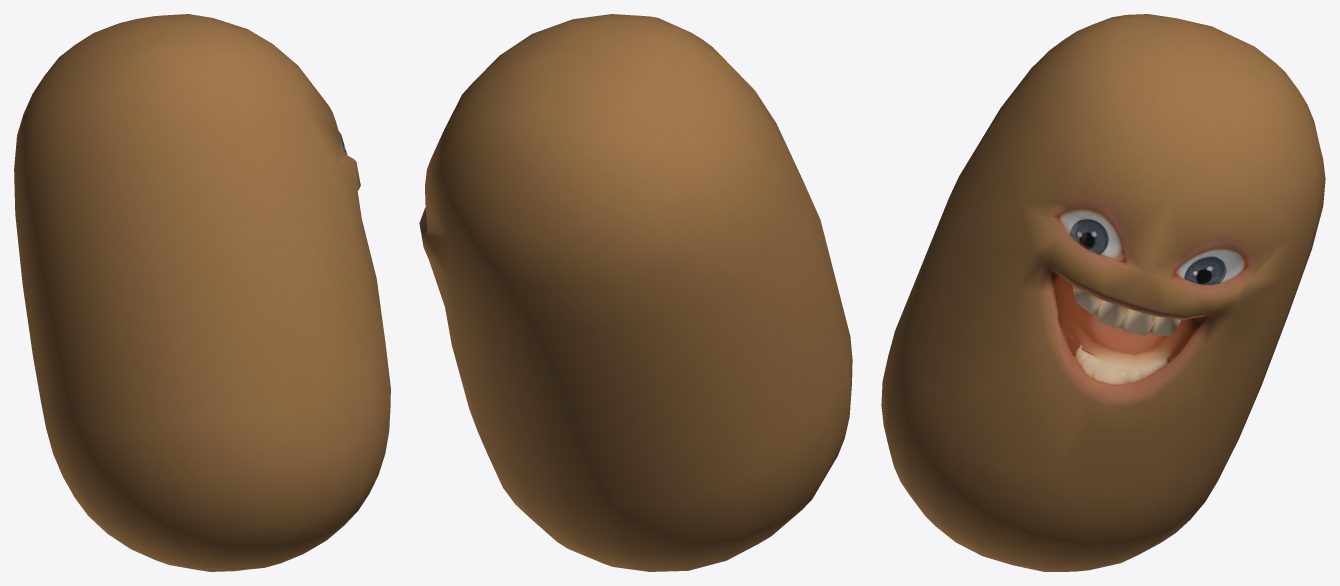
Rendered from cher_token.glb.
3 views of the same model, side by side, from view 1: azimuth 30°, elevation 25°; view 2: azimuth 150°, elevation 25°; view 3: azimuth 270°, elevation 25° (orthographic). The views are drawn at different scales.
Parts seen in each view (by area): view 1: tripo_node_080f4bd9-de47-4f96-b311-3d072bc5e1f6; view 2: tripo_node_080f4bd9-de47-4f96-b311-3d072bc5e1f6; view 3: tripo_node_080f4bd9-de47-4f96-b311-3d072bc5e1f6.
Part boxes in pixels (<box>): tripo_node_080f4bd9-de47-4f96-b311-3d072bc5e1f6: <box>14,14,390,571</box>; tripo_node_080f4bd9-de47-4f96-b311-3d072bc5e1f6: <box>419,14,852,571</box>; tripo_node_080f4bd9-de47-4f96-b311-3d072bc5e1f6: <box>881,14,1325,571</box>.
Bounding box in the file's own units: 0.6582 × 0.998 × 0.7715.
1 material, 1 textured.
